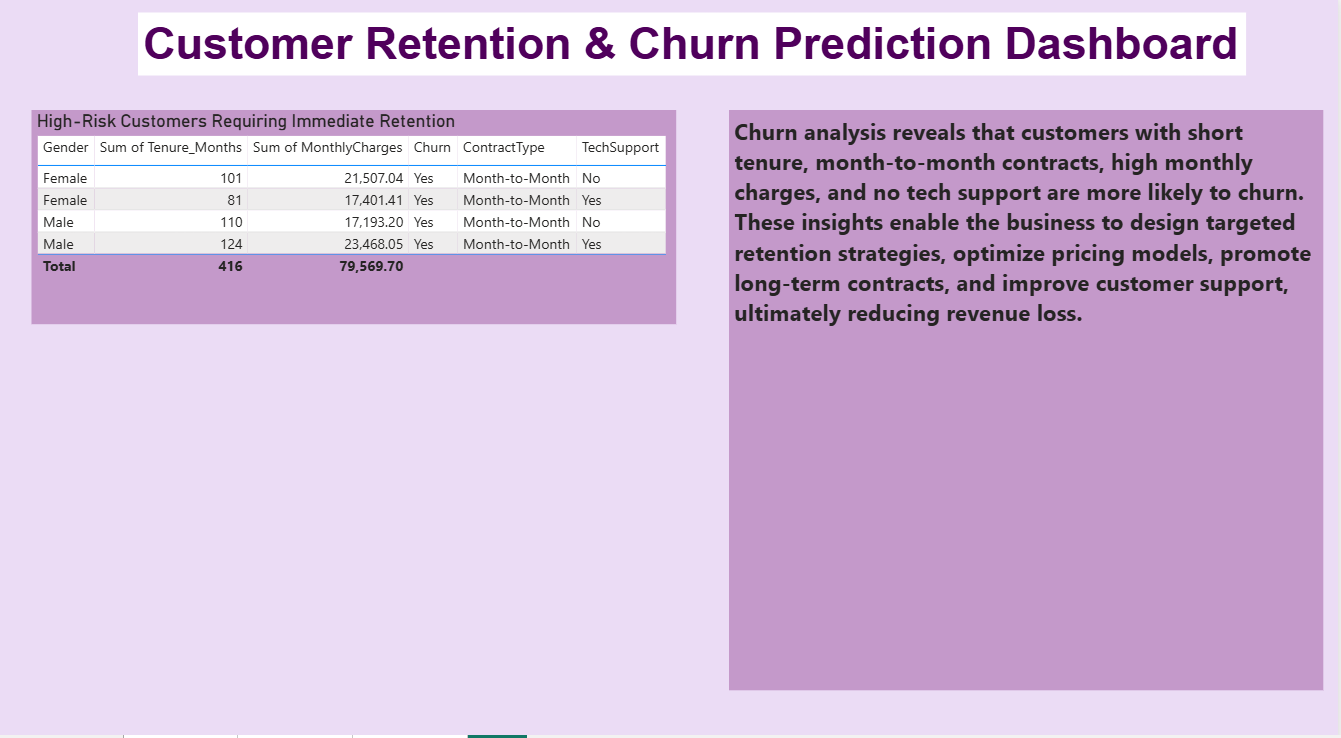

The dashboard page shown, as its layout file describes it:
{"tool":"powerbi","page":{"name":"Page 3","canvas":[1280,720],"ordinal":2},"visuals":[{"type":"tableEx","title":"High-Risk Customers Requiring Immediate Retention","fields":{"Values":["Customers.Gender","Sum(Customers.Tenure_Months)","Sum(Customers.MonthlyCharges)","Customers.Churn","Customers.ContractType","Services.TechSupport"]},"box":[35.7,108.6,614.3,204.3],"z":0},{"type":"textbox","box":[136.7,15,1055,60],"z":1},{"type":"textbox","box":[700,108.6,565.7,552.9],"z":3}]}

Visuals, with their boxes in screenshot pixels (x1, y1, x2, y2), scaled from the page's 1280x720 canvas onto the 1341x738 screenshot:
"High-Risk Customers Requiring Immediate Retention" tableEx: <bbox>37, 111, 681, 321</bbox>
textbox: <bbox>143, 15, 1248, 77</bbox>
textbox: <bbox>733, 111, 1326, 678</bbox>
